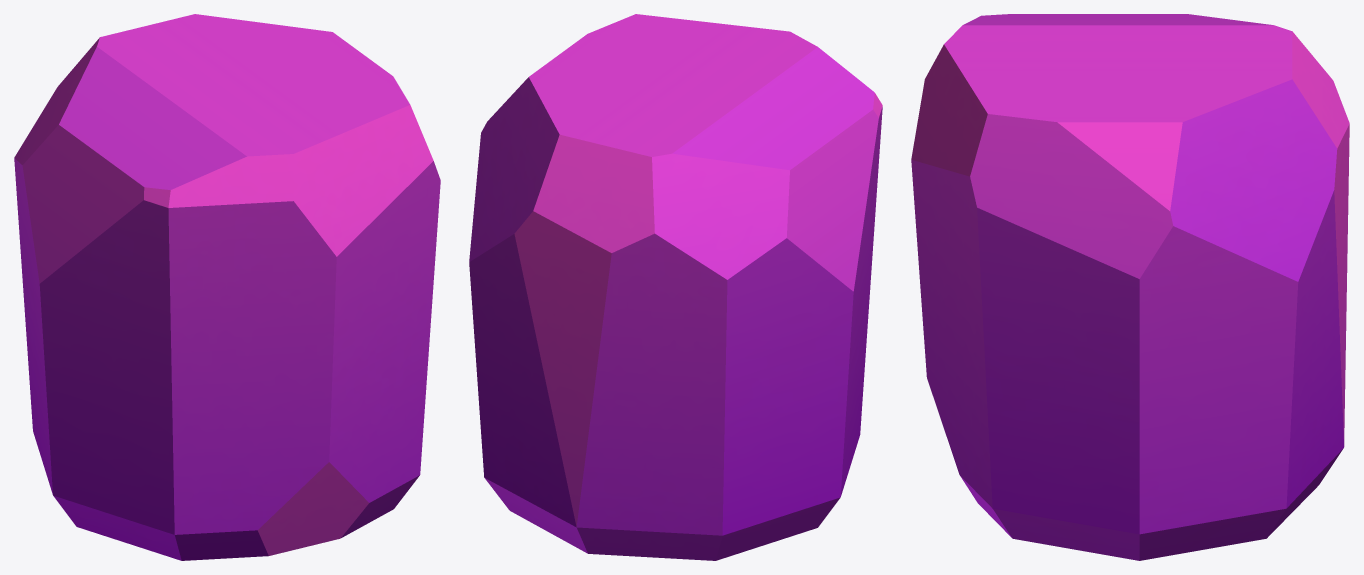
Rendered from Ore_Piece_04.fbx.
3 views of the same model, side by side, from view 1: azimuth 30°, elevation 25°; view 2: azimuth 150°, elevation 25°; view 3: azimuth 270°, elevation 25° (orthographic). The views are drawn at different scales.
Visible parts, largest first — view 1: Ore_Piece_04; view 2: Ore_Piece_04; view 3: Ore_Piece_04.
Boxes of the visible parts, x1,y1,x2,y2 form: Ore_Piece_04: (14, 14, 440, 560); Ore_Piece_04: (469, 14, 882, 560); Ore_Piece_04: (911, 14, 1349, 560).
Bounding box in the file's own units: 0.4965 × 0.5195 × 0.4834.
